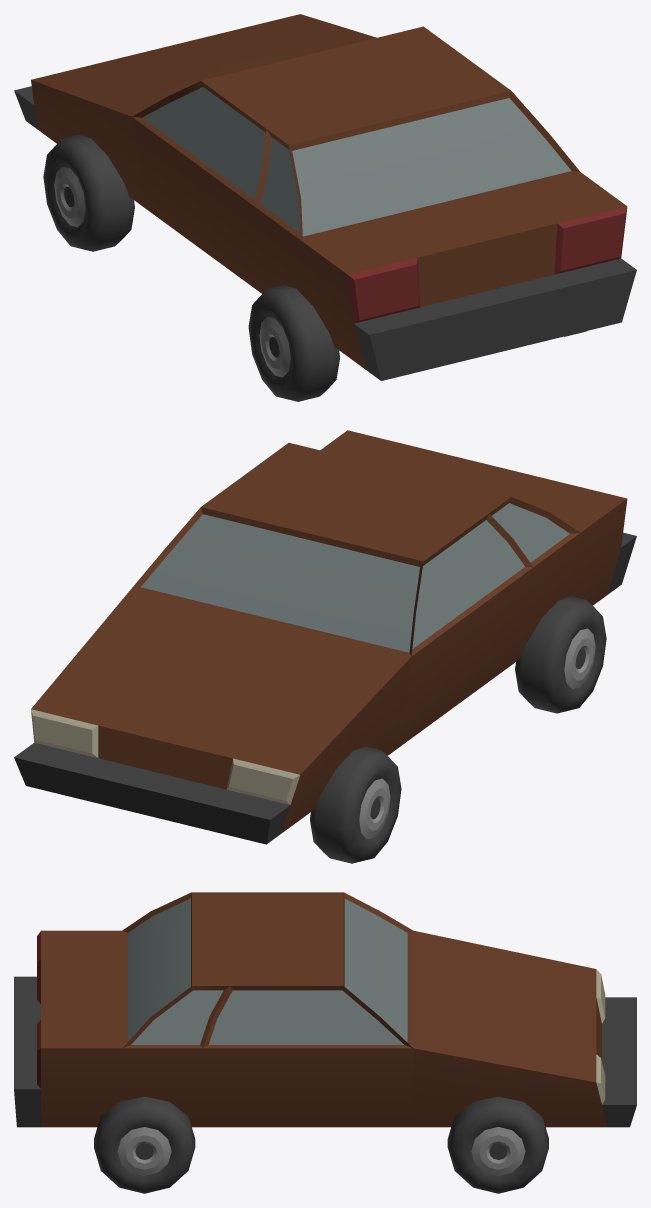
The model's file is PS_Car01.fbx.
3 renders of one model, top to bottom at view 1: azimuth 30°, elevation 25°; view 2: azimuth 150°, elevation 25°; view 3: azimuth 270°, elevation 25°, orthographic. The views are drawn at different scales.
Visible parts, largest first — view 1: PS_Car01; view 2: PS_Car01; view 3: PS_Car01.
Part boxes in pixels (box(x1,y1,x2,y2)): PS_Car01: box(14, 14, 636, 401); PS_Car01: box(14, 430, 636, 863); PS_Car01: box(14, 892, 636, 1193).
Bounding box in the file's own units: 1.91 × 1.32 × 3.85.
